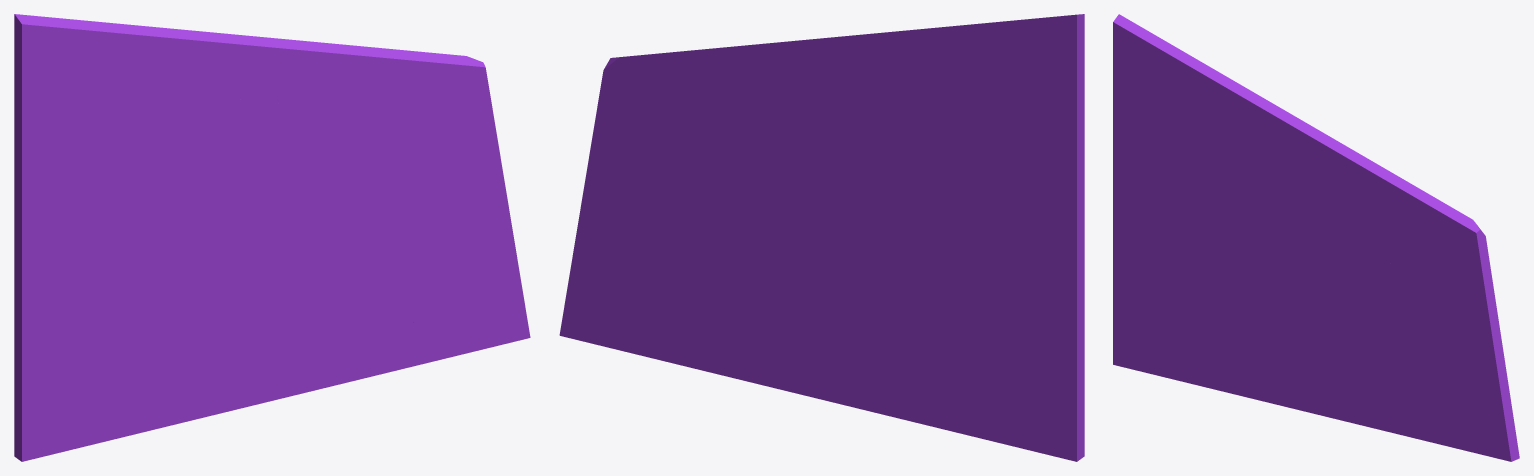
Rendered from Glass_8_0_chunks.fbx.
The picture shows the model from 3 angles, left to right: view 1: azimuth 30°, elevation 25°; view 2: azimuth 150°, elevation 25°; view 3: azimuth 330°, elevation 25°; orthographic projection. The views are drawn at different scales.
Parts seen in each view (by area): view 1: Glass_8_0_4, Glass_8_0_3, Glass_8_0_10, Glass_8_0_1, Glass_8_0_12, Glass_8_0_15, Glass_8_0_16, Glass_8_0_5, Glass_8_0_11, Glass_8_0_9, Glass_8_0_20, Glass_8_0_14 (+8 smaller); view 2: Glass_8_0_4, Glass_8_0_10, Glass_8_0_3, Glass_8_0_12, Glass_8_0_16, Glass_8_0_1, Glass_8_0_9, Glass_8_0_15, Glass_8_0_11, Glass_8_0_2, Glass_8_0_14, Glass_8_0_5 (+8 smaller); view 3: Glass_8_0_4, Glass_8_0_3, Glass_8_0_10, Glass_8_0_1, Glass_8_0_12, Glass_8_0_15, Glass_8_0_16, Glass_8_0_5, Glass_8_0_11, Glass_8_0_20, Glass_8_0_9, Glass_8_0_14 (+8 smaller).
Boxes of the visible parts, bbox=[...] form: Glass_8_0_4: bbox=[383, 119, 530, 362]; Glass_8_0_3: bbox=[246, 247, 429, 407]; Glass_8_0_10: bbox=[14, 324, 248, 461]; Glass_8_0_1: bbox=[168, 123, 302, 342]; Glass_8_0_12: bbox=[14, 219, 168, 405]; Glass_8_0_15: bbox=[14, 126, 126, 288]; Glass_8_0_16: bbox=[14, 14, 139, 138]; Glass_8_0_5: bbox=[301, 108, 494, 248]; Glass_8_0_11: bbox=[149, 220, 263, 395]; Glass_8_0_9: bbox=[208, 96, 359, 183]; Glass_8_0_20: bbox=[130, 24, 293, 98]; Glass_8_0_14: bbox=[88, 140, 182, 256]; Glass_8_0_4: bbox=[559, 106, 715, 362]; Glass_8_0_10: bbox=[843, 324, 1084, 461]; Glass_8_0_3: bbox=[672, 257, 847, 405]; Glass_8_0_12: bbox=[942, 216, 1084, 400]; Glass_8_0_16: bbox=[949, 14, 1084, 140]; Glass_8_0_1: bbox=[786, 135, 916, 333]; Glass_8_0_9: bbox=[724, 77, 904, 188]; Glass_8_0_15: bbox=[986, 120, 1084, 281]; Glass_8_0_11: bbox=[827, 223, 937, 391]; Glass_8_0_2: bbox=[843, 60, 936, 218]; Glass_8_0_14: bbox=[929, 124, 1025, 255]; Glass_8_0_5: bbox=[603, 108, 783, 233]; Glass_8_0_4: bbox=[1396, 266, 1519, 461]; Glass_8_0_3: bbox=[1288, 321, 1432, 442]; Glass_8_0_10: bbox=[1113, 305, 1290, 407]; Glass_8_0_1: bbox=[1227, 182, 1332, 364]; Glass_8_0_12: bbox=[1113, 229, 1227, 320]; Glass_8_0_15: bbox=[1113, 104, 1195, 229]; Glass_8_0_16: bbox=[1113, 14, 1208, 138]; Glass_8_0_5: bbox=[1332, 261, 1488, 335]; Glass_8_0_11: bbox=[1212, 231, 1302, 399]; Glass_8_0_20: bbox=[1207, 66, 1327, 164]; Glass_8_0_9: bbox=[1259, 150, 1377, 262]; Glass_8_0_14: bbox=[1165, 153, 1238, 230].
Bounding box in the file's own units: 1082 × 894 × 27.2.
